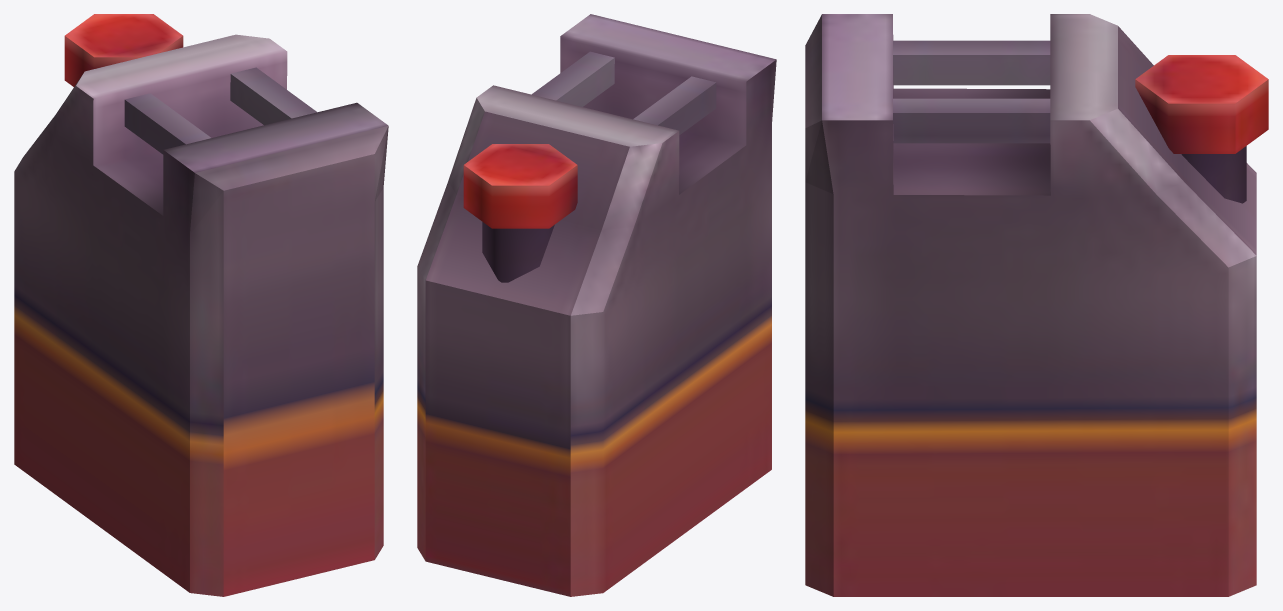
3 renders of one model, left to right at view 1: azimuth 30°, elevation 25°; view 2: azimuth 150°, elevation 25°; view 3: azimuth 270°, elevation 25°, orthographic. The views are drawn at different scales.
Visible parts, largest first — view 1: Fuel; view 2: Fuel; view 3: Fuel.
Part boxes in pixels (<box>): Fuel: <box>14,14,388,596</box>; Fuel: <box>417,14,776,596</box>; Fuel: <box>805,14,1268,596</box>.
Size of what is drawn, in the model's own units: 0.1371 by 0.2525 by 0.2866.
1 material, 1 textured.
